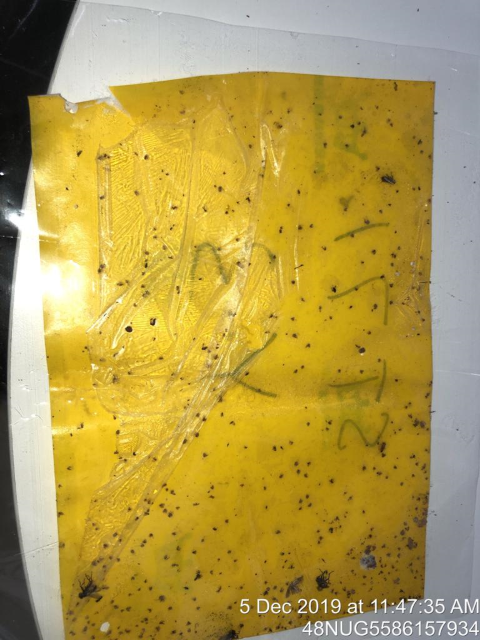DBM: (283, 575, 303, 597), (378, 171, 398, 187)
